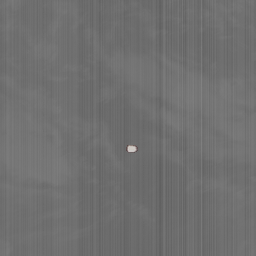Target: (124, 144, 138, 153)
